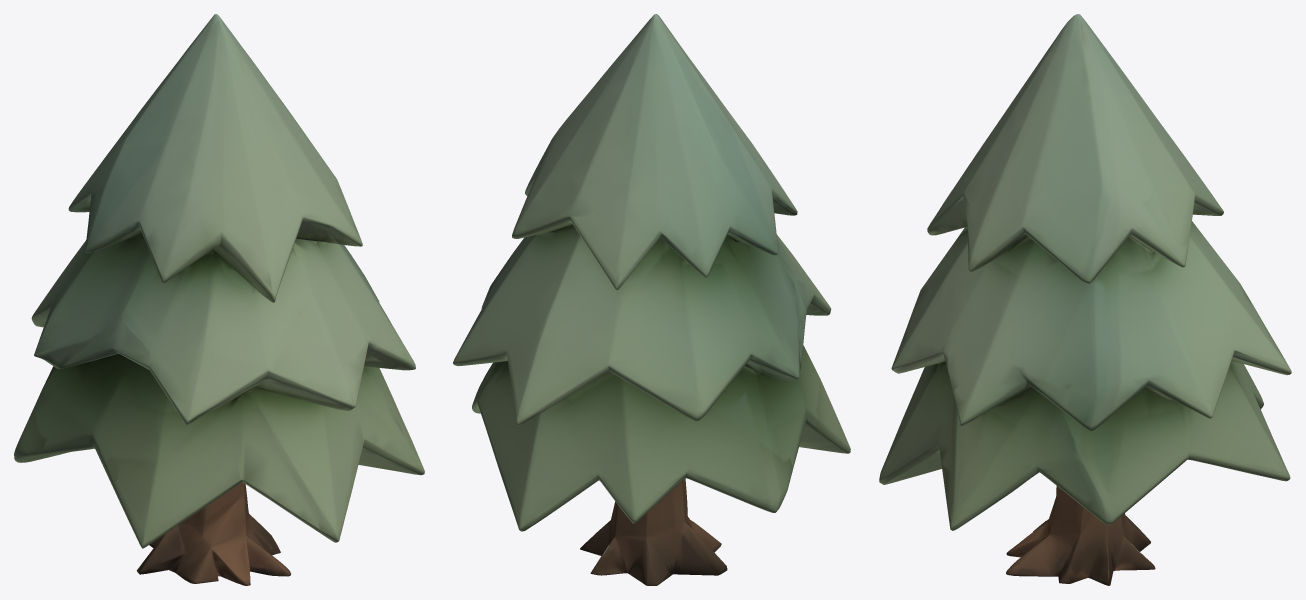
Rendered from pine3.fbx.
3 views of the same model, side by side, from view 1: azimuth 30°, elevation 25°; view 2: azimuth 150°, elevation 25°; view 3: azimuth 270°, elevation 25° (orthographic).
Parts seen in each view (by area): view 1: pine3; view 2: pine3; view 3: pine3.
Boxes of the visible parts, box(x1,y1,x2,y2) form: pine3: box(14, 14, 424, 585); pine3: box(453, 14, 850, 585); pine3: box(879, 14, 1291, 585).
Bounding box in the file's own units: 31.57 × 49.34 × 33.98.
Materials: 1 (1 with a texture image).
